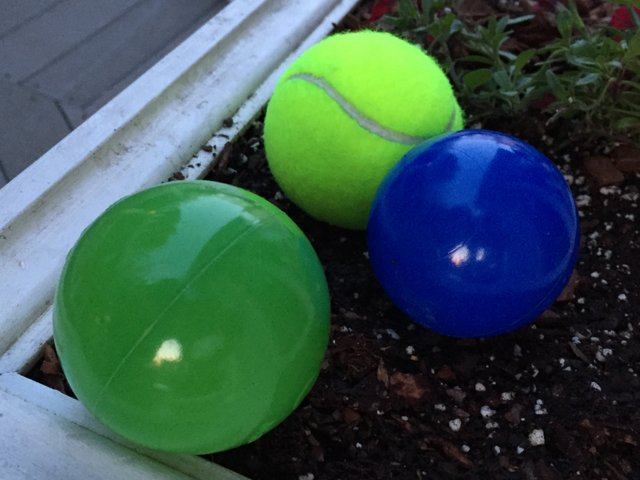ball: (367, 131, 580, 339)
